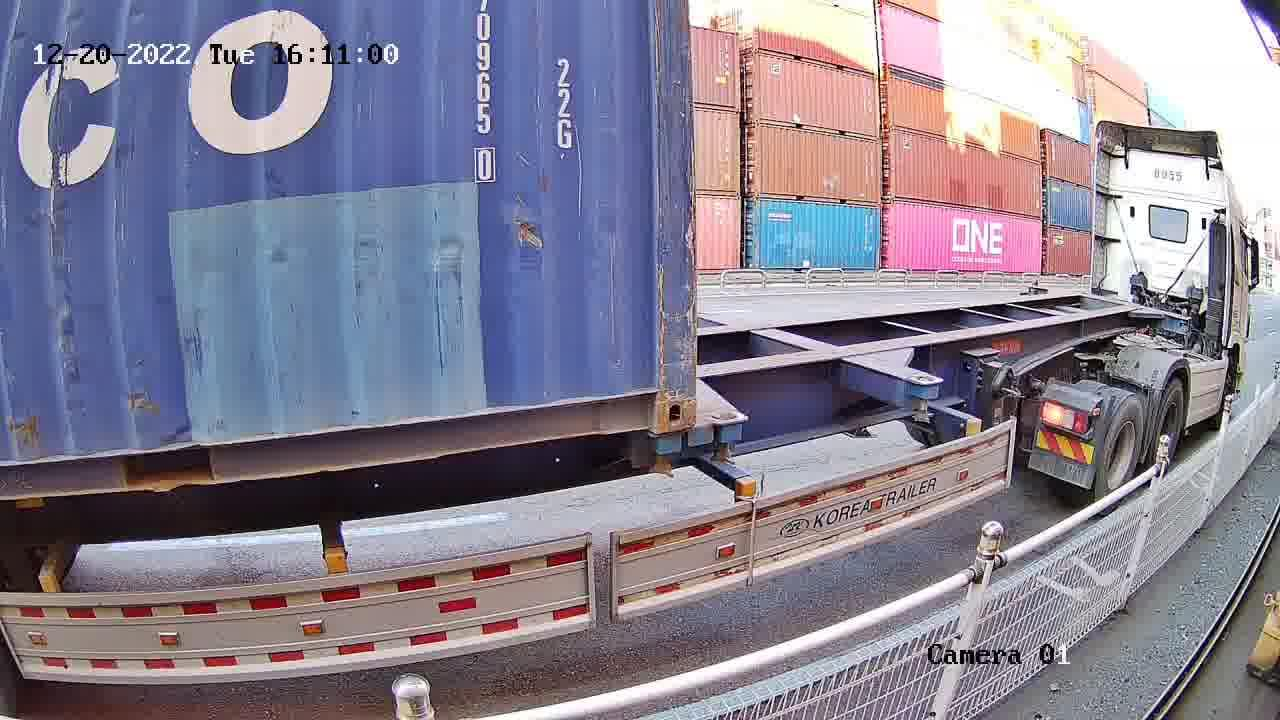Cone: (706, 408, 742, 469), (647, 430, 690, 477)
Hole_R: (609, 360, 698, 432)
Tire: (1097, 402, 1144, 507), (1156, 382, 1183, 468)
